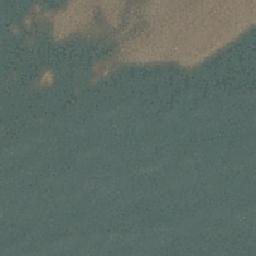debris: (86, 1, 256, 86), (11, 1, 85, 47), (36, 66, 56, 89)
